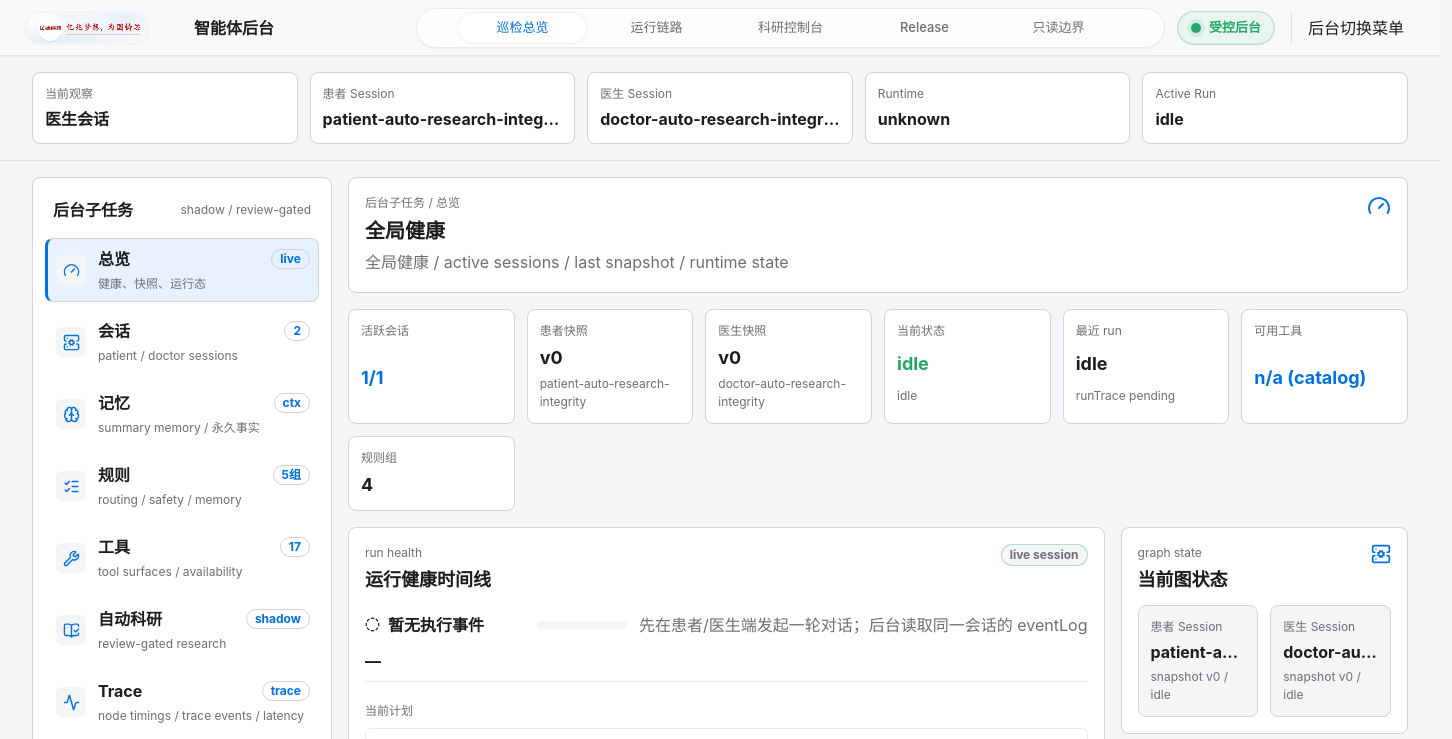
Test: AgentAdminView › shows affected Run artifacts and append-only recovery paths for integrity warnings
The image size is (1452, 739).
Click the button "自动科研 shadow review-gated research" at (130, 619), box left=45, top=598, right=319, bottom=662
(page scrolled)
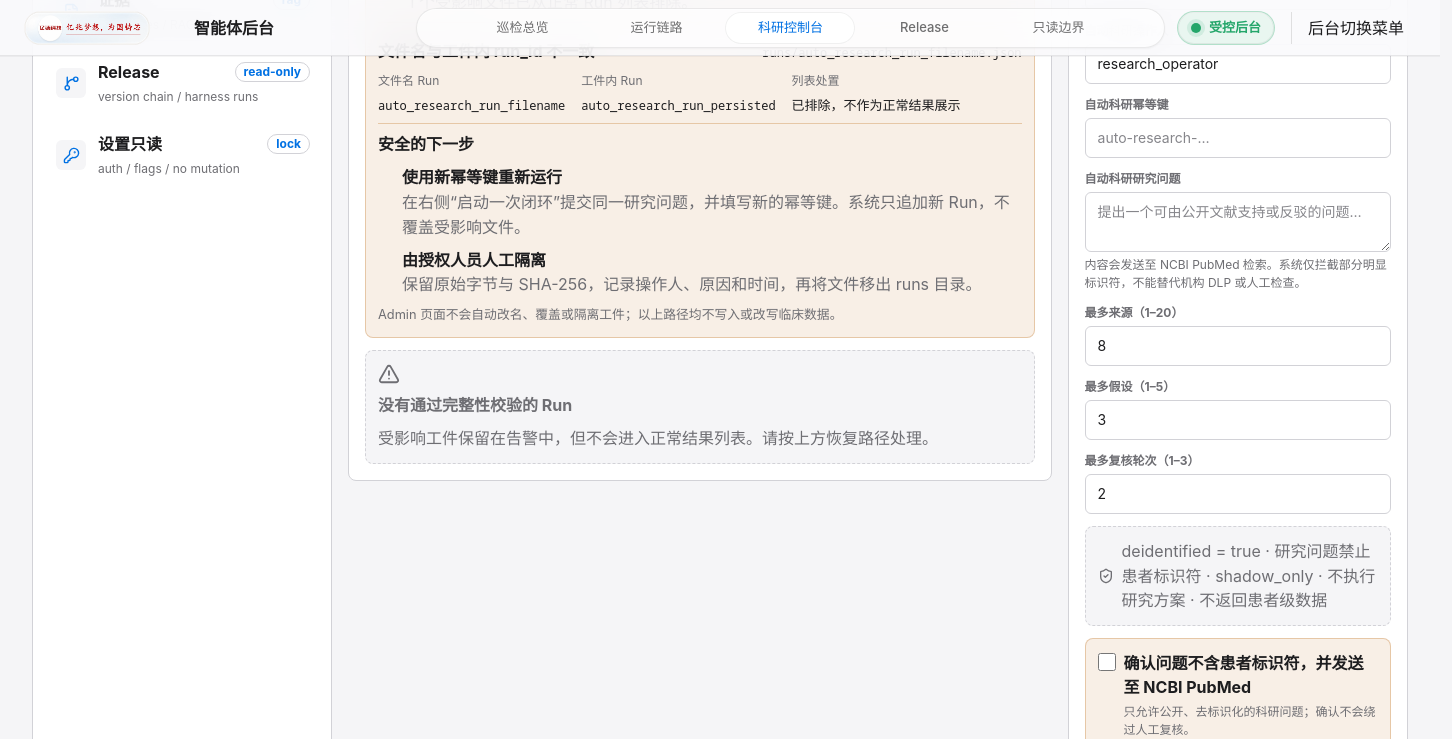
Result: the message "自动科研台账 integrity warning" shows "文件名与工件内 run_id 不一致" at left=378, top=41, right=594, bottom=61
Result: the message "自动科研台账 integrity warning" shows "runs/auto_research_run_filename.json" at left=762, top=44, right=1022, bottom=61
Result: the message "自动科研台账 integrity warning" shows "auto_research_run_filename" at left=378, top=97, right=565, bottom=114
